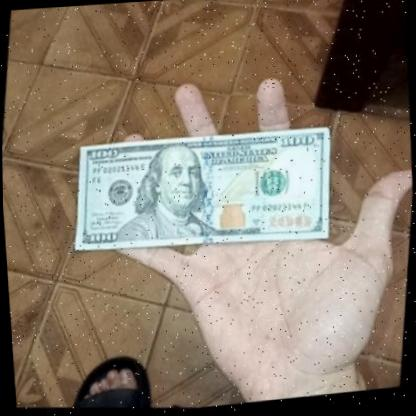one_hundred-front: (61, 98, 344, 279)
